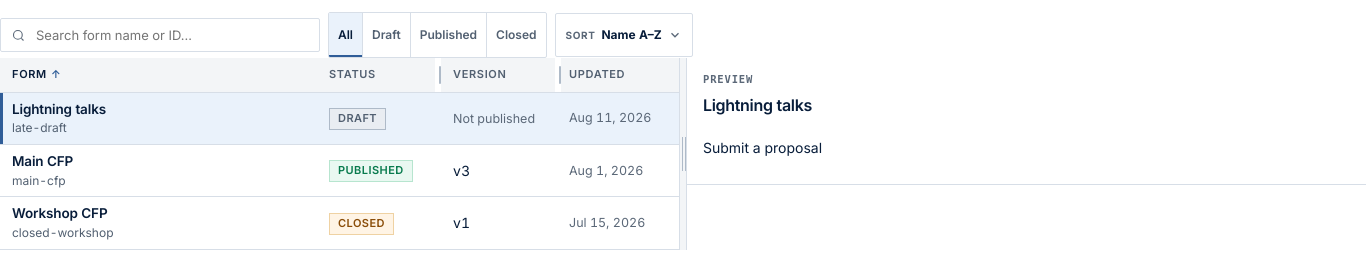
FormsWorkspace › filters and searches locally without refetching
This screenshot has width=1366, height=267.
Expected: the table named "Forms" is shown, [0,58,679,250]
Click the button "Draft" at [387, 35], box [363,13,411,57]
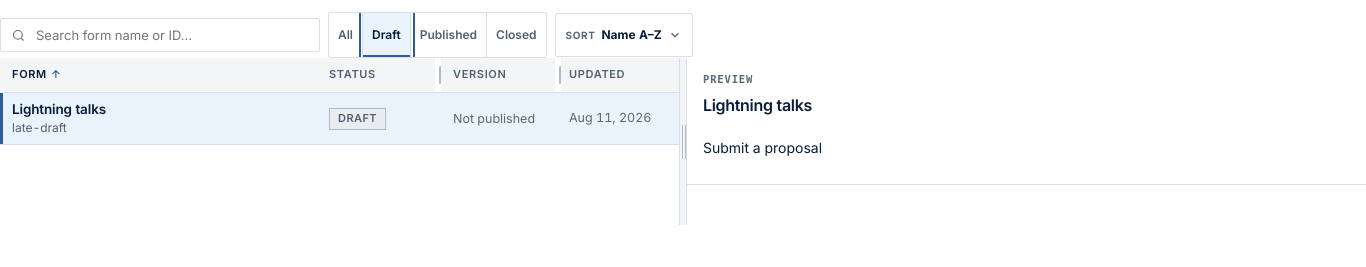
Expected: the link "Lightning talks" is shown, [12,100,106,117]
Expected: the link "Main CFP" is gone
Click the button "All" at [346, 35], box [329,13,363,57]
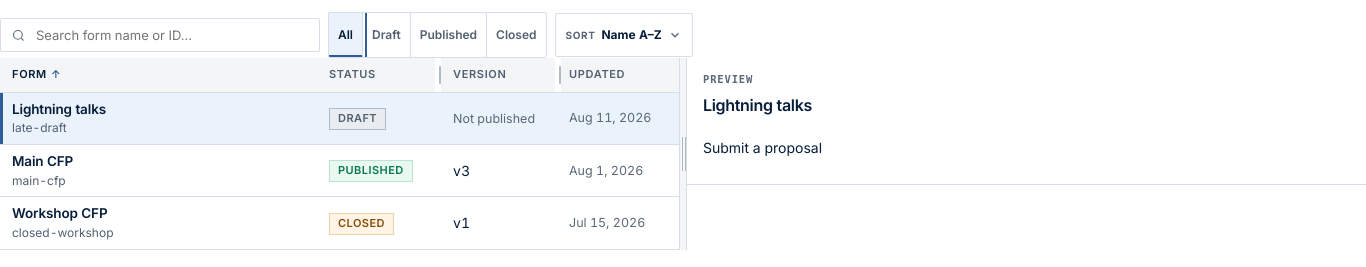
Type "workshop" into the search field labelled "Search form name or ID" at [172, 35], box [34,19,309,51]
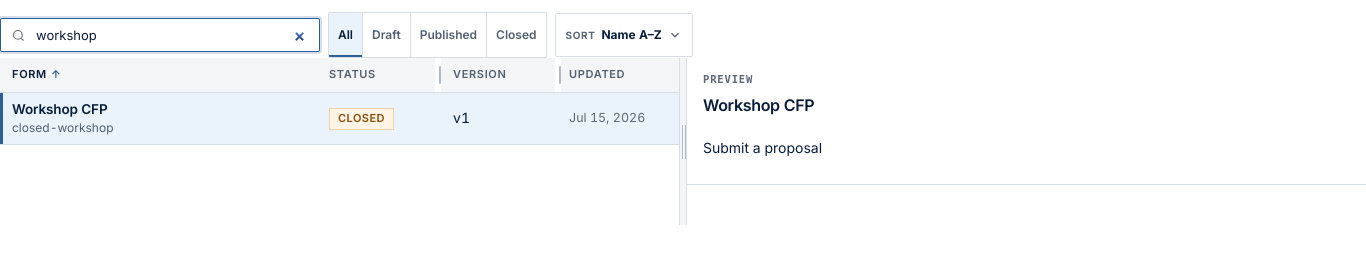
Expected: the link "Workshop CFP" is shown, [12,100,108,117]
Expected: the link "Main CFP" is gone
